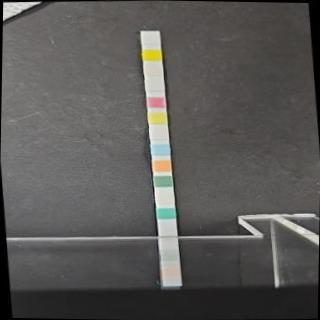mark: (154, 174, 172, 187), (141, 31, 159, 44), (155, 190, 173, 202), (152, 159, 170, 171), (150, 143, 168, 155), (148, 112, 166, 124), (142, 48, 160, 60), (146, 78, 163, 90), (145, 64, 162, 76), (150, 128, 168, 139), (148, 96, 164, 108), (158, 208, 175, 218)
